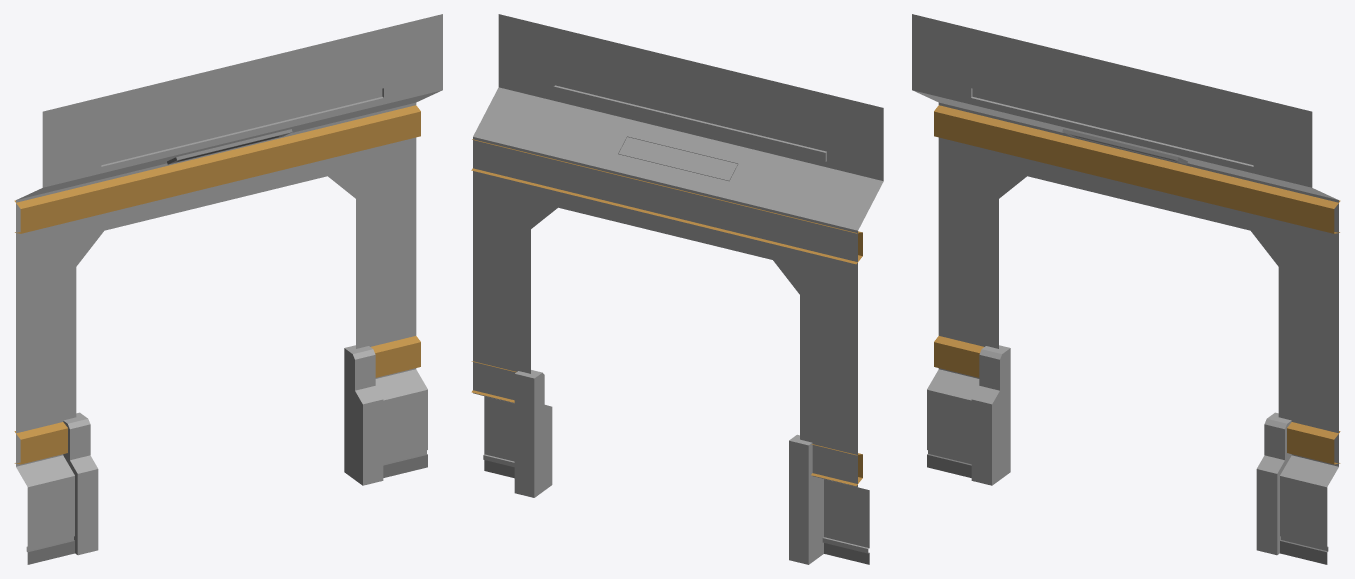
File: DoorDouble_Wall_SideB.fbx
The picture shows the model from 3 angles, left to right: view 1: azimuth 30°, elevation 25°; view 2: azimuth 150°, elevation 25°; view 3: azimuth 330°, elevation 25°; orthographic projection. The views are drawn at different scales.
Parts seen in each view (by area): view 1: DoorDouble_Wall_SideB; view 2: DoorDouble_Wall_SideB; view 3: DoorDouble_Wall_SideB.
Part boxes in pixels (x1,y1,x2,y2): DoorDouble_Wall_SideB: (14,14,442,564); DoorDouble_Wall_SideB: (471,14,883,564); DoorDouble_Wall_SideB: (912,14,1340,564).
Size of the model in its own units: 4 by 4.43 by 0.5307.
